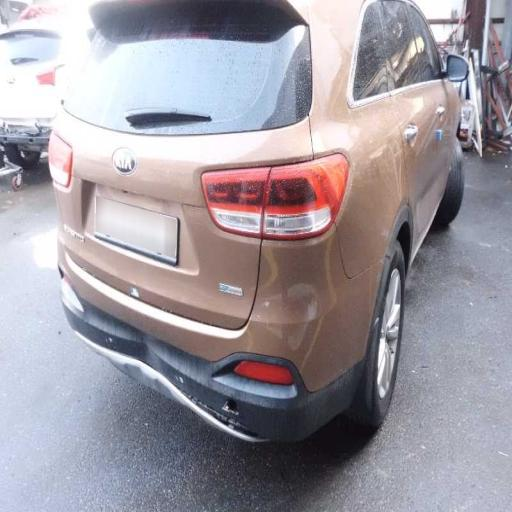dent: (80, 246, 228, 406)
scratch: (364, 60, 466, 196)
